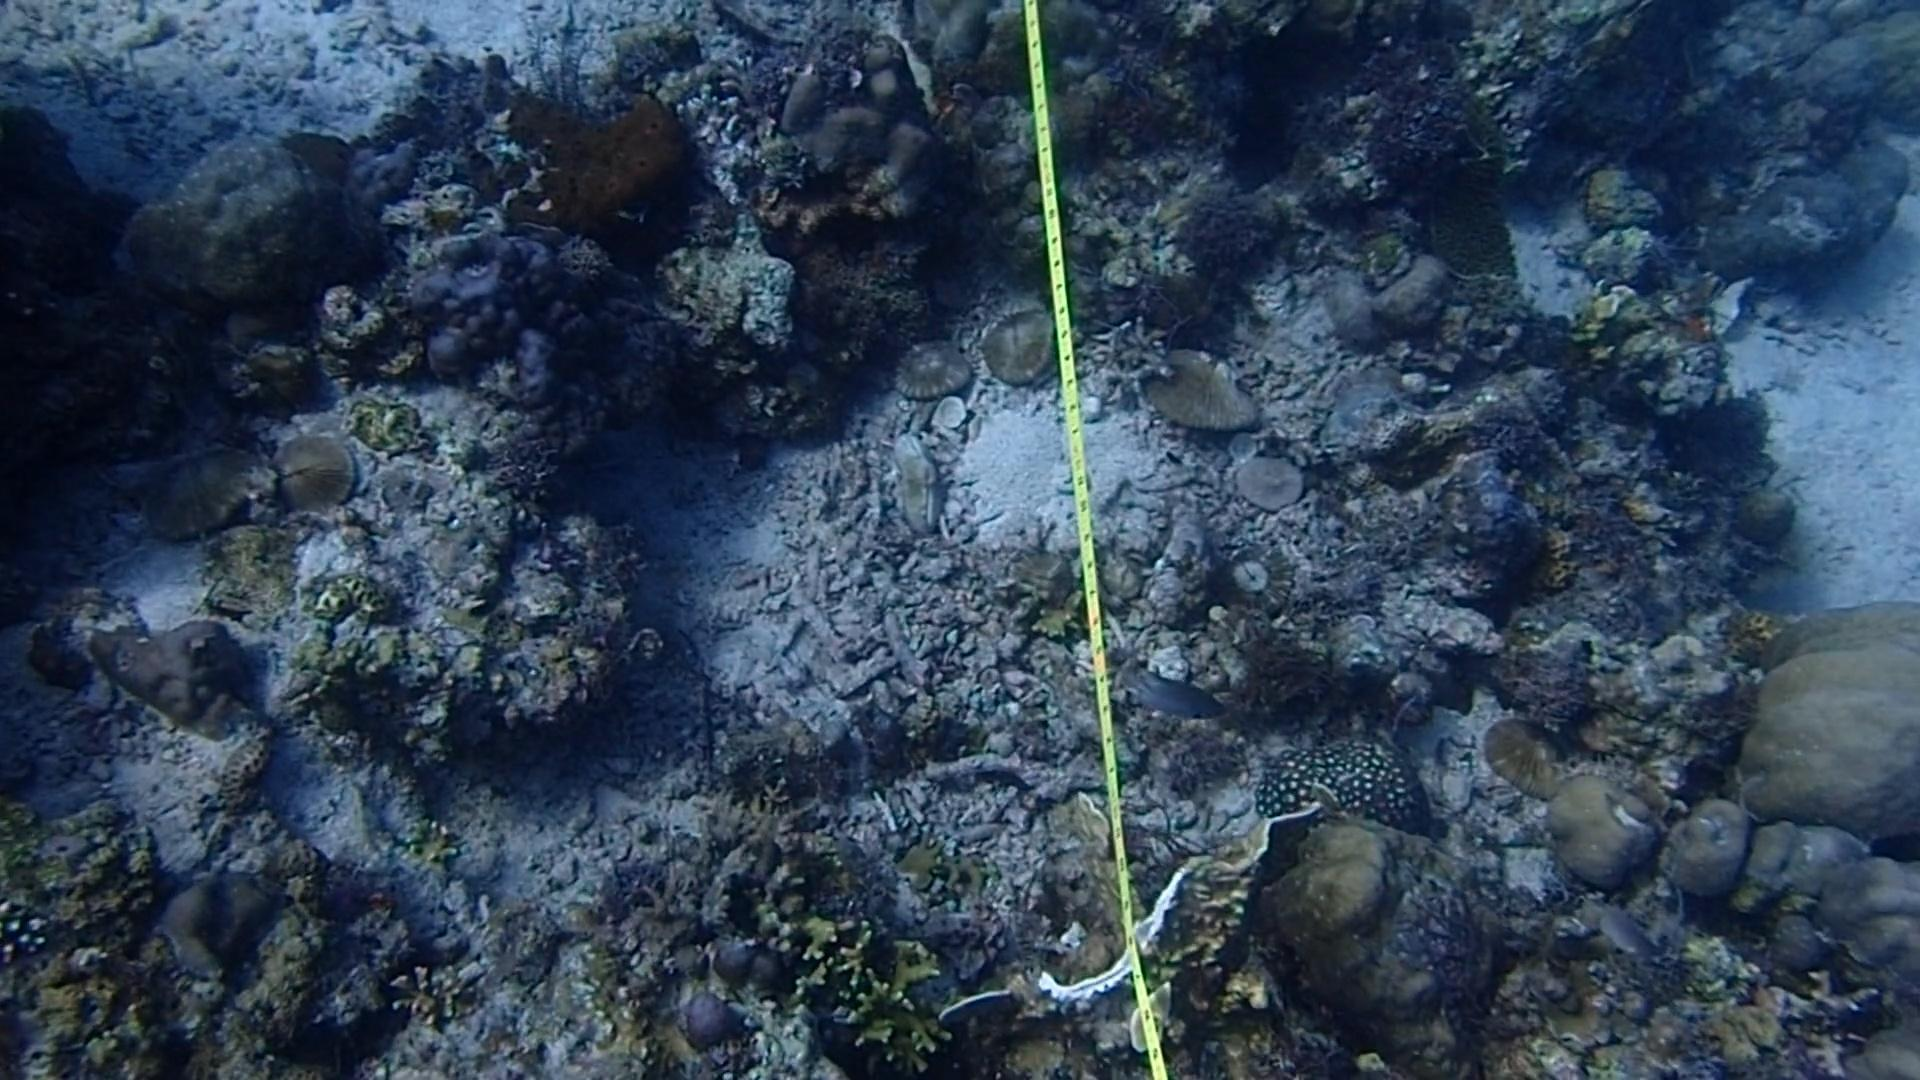Light Fish: (1127, 655, 1216, 735)
